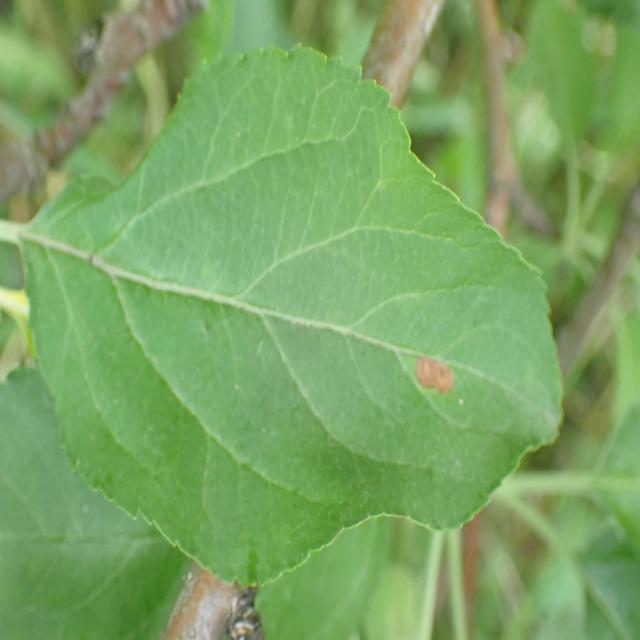frog-eye-leaf-spot: (21, 41, 565, 588)
